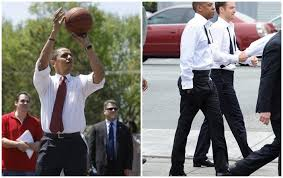F_shirt: (30, 60, 104, 134), (177, 13, 214, 88)
